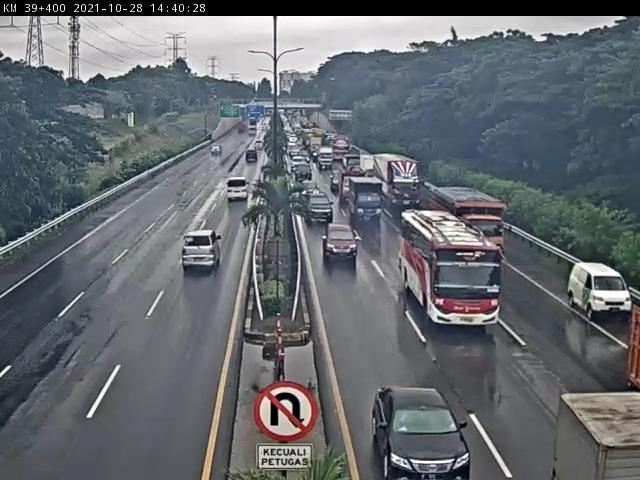bus: (402, 215, 506, 332)
car: (373, 389, 473, 480), (565, 263, 634, 319), (179, 229, 224, 273), (321, 219, 358, 256), (307, 191, 333, 221), (225, 177, 251, 206)
truck: (422, 184, 500, 267), (375, 154, 421, 210), (345, 177, 381, 217)
